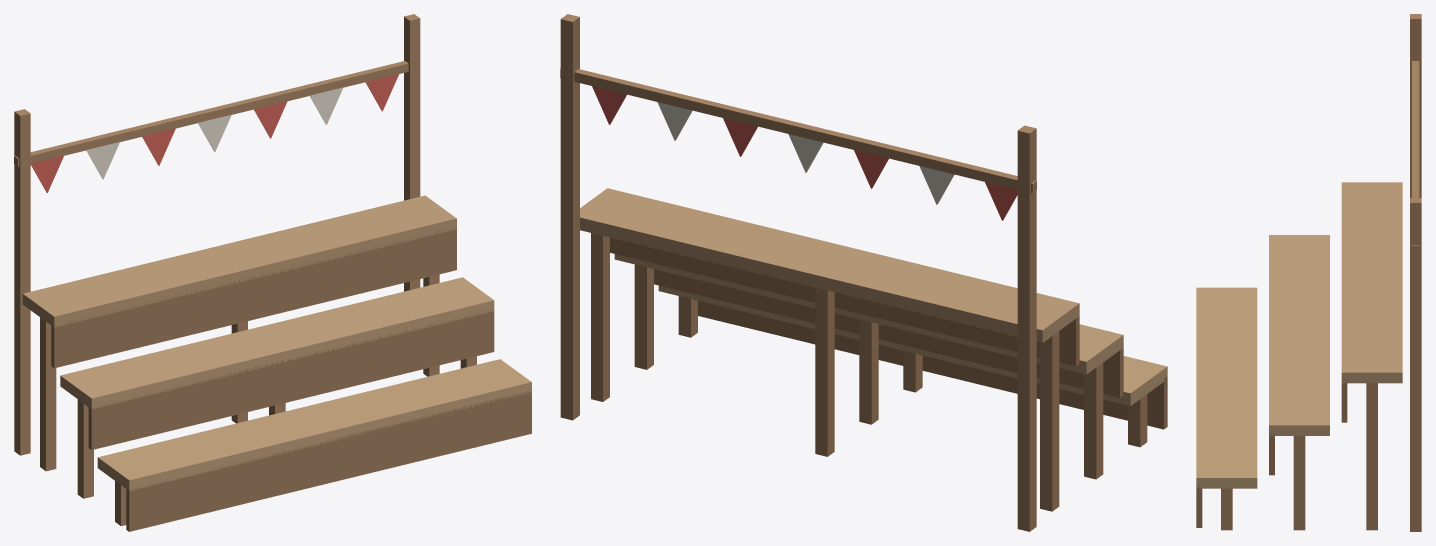
The model's file is stand.glb.
3 renders of one model, left to right at view 1: azimuth 30°, elevation 25°; view 2: azimuth 150°, elevation 25°; view 3: azimuth 270°, elevation 25°, orthographic. The views are drawn at different scales.
Parts seen in each view (by area): view 1: stand; view 2: stand; view 3: stand.
Boxes of the visible parts, x1,y1,x2,y2 form: stand: (14,14,531,531); stand: (560,14,1167,531); stand: (1196,14,1421,531).
Bounding box in the file's own units: 6.2 × 5 × 3.1.
